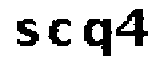4: (115, 5, 151, 50)
c: (44, 17, 77, 50)
q: (79, 12, 116, 60)
s: (14, 17, 39, 50)
